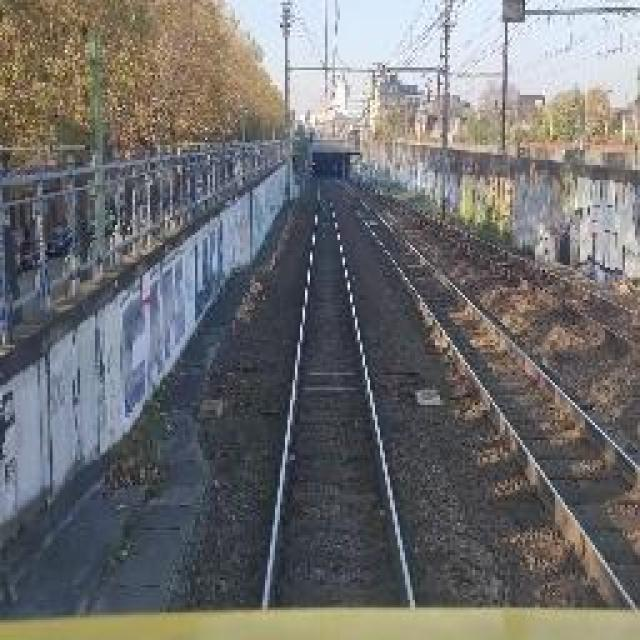rail: (243, 169, 432, 609)
